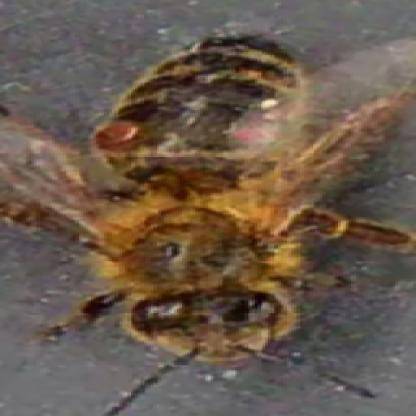bee: (77, 36, 325, 369)
vaoora: (105, 126, 144, 144)
